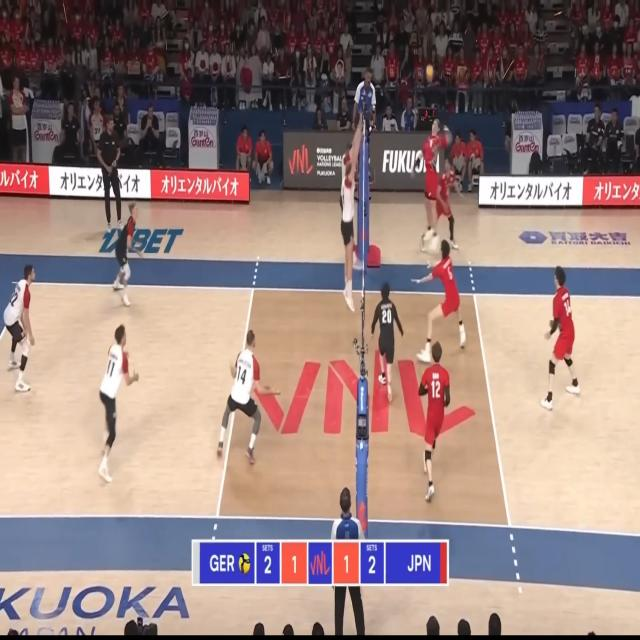ball: (427, 65, 432, 81)
